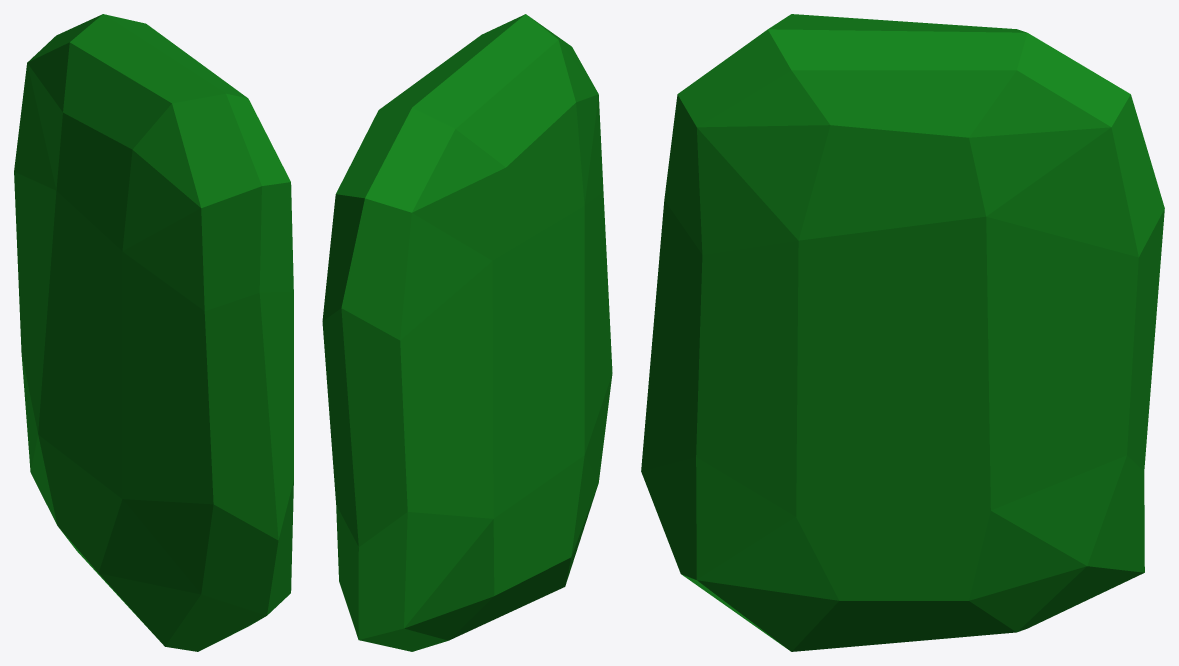
The model's file is Smaragd 1.fbx.
3 renders of one model, left to right at view 1: azimuth 30°, elevation 25°; view 2: azimuth 150°, elevation 25°; view 3: azimuth 270°, elevation 25°, orthographic. The views are drawn at different scales.
Parts seen in each view (by area): view 1: Cube; view 2: Cube; view 3: Cube.
Part boxes in pixels (x1,y1,x2,y2): Cube: (14, 14, 293, 651); Cube: (322, 14, 612, 651); Cube: (641, 14, 1164, 651).
Size of the model in its own units: 32.7 by 111 by 85.57.
